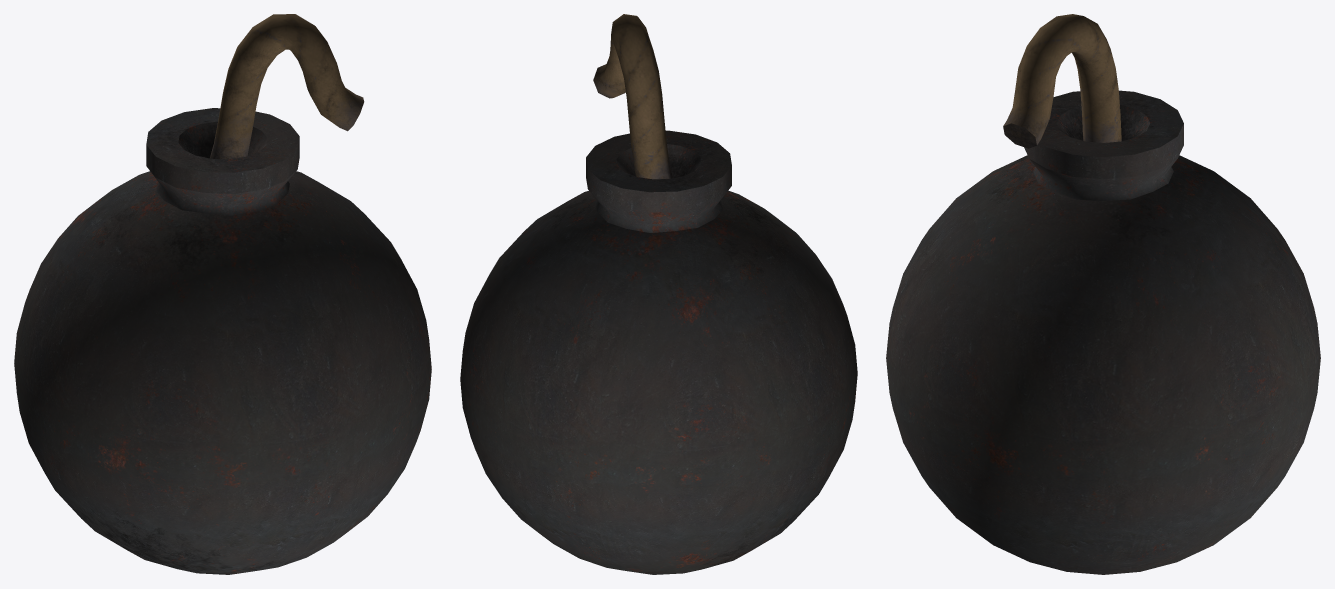
Rendered from round_bomb.obj.
3 renders of one model, left to right at view 1: azimuth 30°, elevation 25°; view 2: azimuth 150°, elevation 25°; view 3: azimuth 270°, elevation 25°, orthographic. The views are drawn at different scales.
Visible parts, largest first — view 1: obj1; view 2: obj1; view 3: obj1.
Boxes of the visible parts, box(x1,y1,x2,y2) form: obj1: box(14, 14, 431, 574); obj1: box(460, 14, 857, 574); obj1: box(886, 14, 1320, 574).
Size of the model in its own units: 0.141 by 0.2018 by 0.141.
